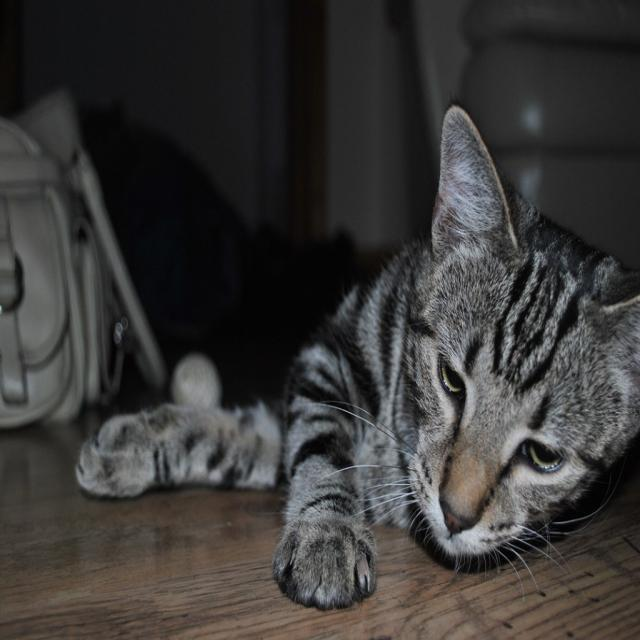Cat: (76, 98, 638, 606)
